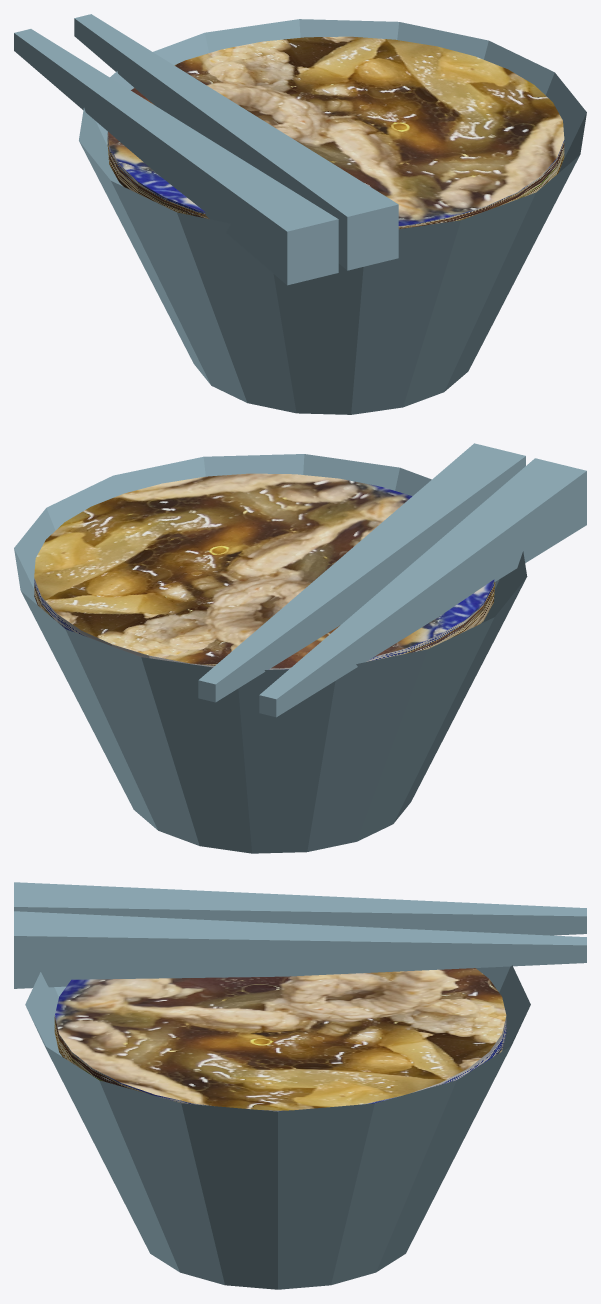
Rendered from noodles-2.glb.
3 views of the same model, one above another, from view 1: azimuth 30°, elevation 25°; view 2: azimuth 150°, elevation 25°; view 3: azimuth 270°, elevation 25° (orthographic). The views are drawn at different scales.
Parts seen in each view (by area): view 1: Cylinder.008; view 2: Cylinder.008; view 3: Cylinder.008.
Boxes of the visible parts, bbox=[...] form: Cylinder.008: bbox=[14, 14, 586, 414]; Cylinder.008: bbox=[14, 443, 586, 853]; Cylinder.008: bbox=[14, 882, 586, 1289].
Size of the model in its own units: 2.52 by 1.44 by 2.85.
Materials: 2 (1 with a texture image).
